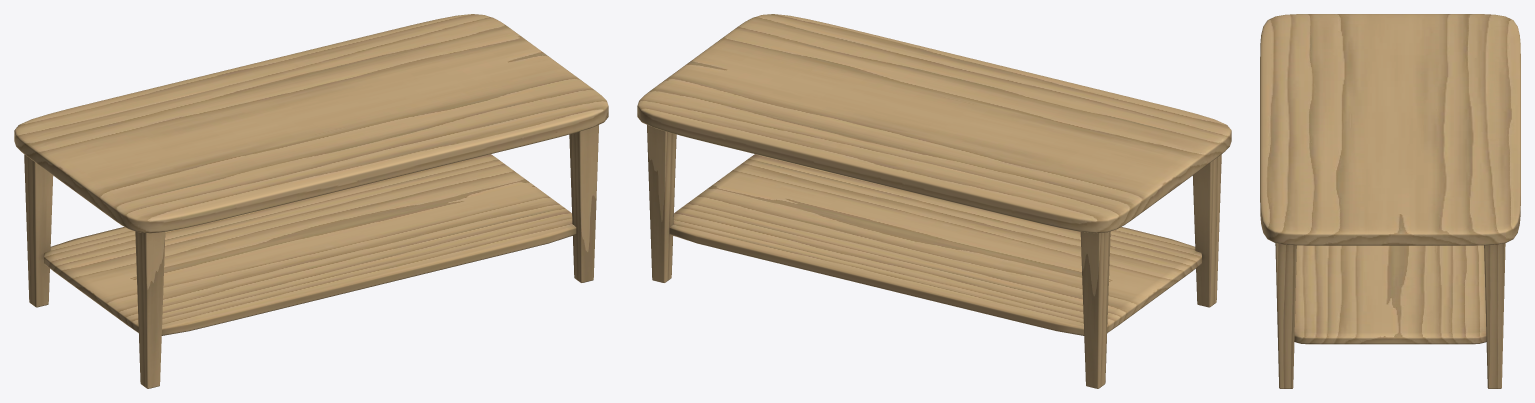
The model's file is oak-coffee.glb.
3 renders of one model, left to right at view 1: azimuth 30°, elevation 25°; view 2: azimuth 150°, elevation 25°; view 3: azimuth 270°, elevation 25°, orthographic. The views are drawn at different scales.
Parts seen in each view (by area): view 1: wood_h, wood_v; view 2: wood_h, wood_v; view 3: wood_h, wood_v.
Part boxes in pixels (bbox=[...]): wood_h: bbox=[14, 14, 608, 335]; wood_v: bbox=[24, 125, 598, 388]; wood_h: bbox=[637, 14, 1231, 335]; wood_v: bbox=[647, 125, 1221, 388]; wood_h: bbox=[1260, 14, 1520, 344]; wood_v: bbox=[1275, 243, 1505, 388].
Bounding box in the file's own units: 1.2 × 0.42 × 0.6.
2 materials, 2 textured.
